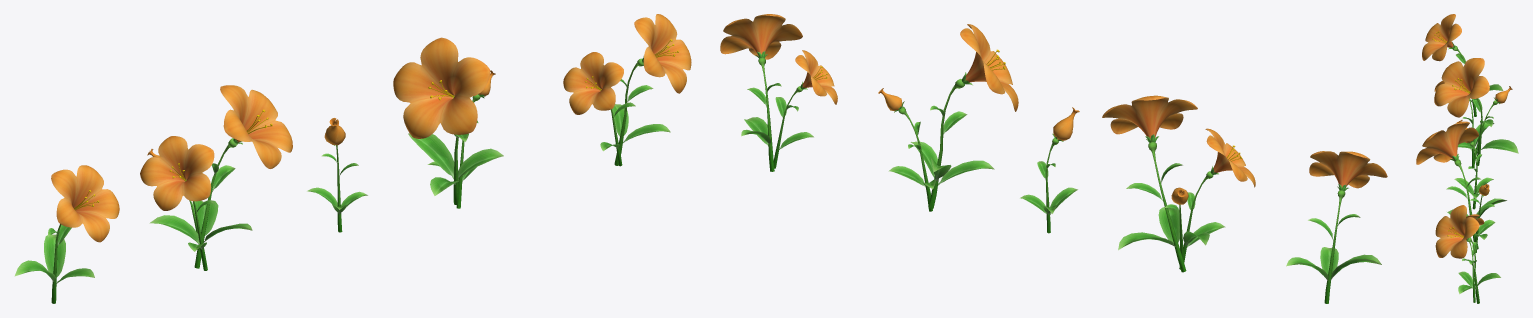
3 renders of one model, left to right at view 1: azimuth 30°, elevation 25°; view 2: azimuth 150°, elevation 25°; view 3: azimuth 270°, elevation 25°, orthographic. The views are drawn at different scales.
Parts seen in each view (by area): view 1: moon_flower_mdl_gohyun_r0:polySurface39_moon_flower_mdl_gohy (×6), moon_flower_mdl_gohyun_r0:polySurface53_moon_flower_mdl_gohy (×3), moon_flower_mdl_gohyun_r0:polySurface54_moon_flower_mdl_gohy (×2), moon_flower_mdl_gohyun_r0:polySurface46_moon_flower_mdl_gohy; view 2: moon_flower_mdl_gohyun_r0:polySurface39_moon_flower_mdl_gohy (×6), moon_flower_mdl_gohyun_r0:polySurface46_moon_flower_mdl_gohy (×2), moon_flower_mdl_gohyun_r0:polySurface56_moon_flower_mdl_gohy (×2); view 3: moon_flower_mdl_gohyun_r0:polySurface39_moon_flower_mdl_gohy (×5), moon_flower_mdl_gohyun_r0:polySurface46_moon_flower_mdl_gohy (×9), moon_flower_mdl_gohyun_r0:polySurface53_moon_flower_mdl_gohy (×3), moon_flower_mdl_gohyun_r0:polySurface54_moon_flower_mdl_gohy (×3), moon_flower_mdl_gohyun_r0:polySurface56_moon_flower_mdl_gohy (×3), moon_flower_mdl_gohyun_r0:polySurface83_moon_flower_mdl_gohy.
Part boxes in pixels (left/top/right/bottom): moon_flower_mdl_gohyun_r0:polySurface39_moon_flower_mdl_gohy (×6): left=51, top=14, right=691, bottom=242; moon_flower_mdl_gohyun_r0:polySurface53_moon_flower_mdl_gohy (×3): left=44, top=148, right=503, bottom=277; moon_flower_mdl_gohyun_r0:polySurface54_moon_flower_mdl_gohy (×2): left=149, top=133, right=454, bottom=244; moon_flower_mdl_gohyun_r0:polySurface46_moon_flower_mdl_gohy: left=194, top=138, right=237, bottom=268; moon_flower_mdl_gohyun_r0:polySurface39_moon_flower_mdl_gohy (×6): left=720, top=14, right=1387, bottom=188; moon_flower_mdl_gohyun_r0:polySurface46_moon_flower_mdl_gohy (×2): left=928, top=79, right=1186, bottom=272; moon_flower_mdl_gohyun_r0:polySurface56_moon_flower_mdl_gohy (×2): left=938, top=160, right=1179, bottom=243; moon_flower_mdl_gohyun_r0:polySurface39_moon_flower_mdl_gohy (×5): left=1416, top=14, right=1489, bottom=258; moon_flower_mdl_gohyun_r0:polySurface46_moon_flower_mdl_gohy (×9): left=1452, top=45, right=1497, bottom=303; moon_flower_mdl_gohyun_r0:polySurface53_moon_flower_mdl_gohy (×3): left=1477, top=139, right=1518, bottom=285; moon_flower_mdl_gohyun_r0:polySurface54_moon_flower_mdl_gohy (×3): left=1474, top=122, right=1506, bottom=218; moon_flower_mdl_gohyun_r0:polySurface56_moon_flower_mdl_gohy (×3): left=1454, top=178, right=1476, bottom=294; moon_flower_mdl_gohyun_r0:polySurface83_moon_flower_mdl_gohy: left=1446, top=186, right=1467, bottom=199.
Bounding box in the file's own units: 0.1422 × 0.0365 × 0.0277.
4 materials, 4 textured.
